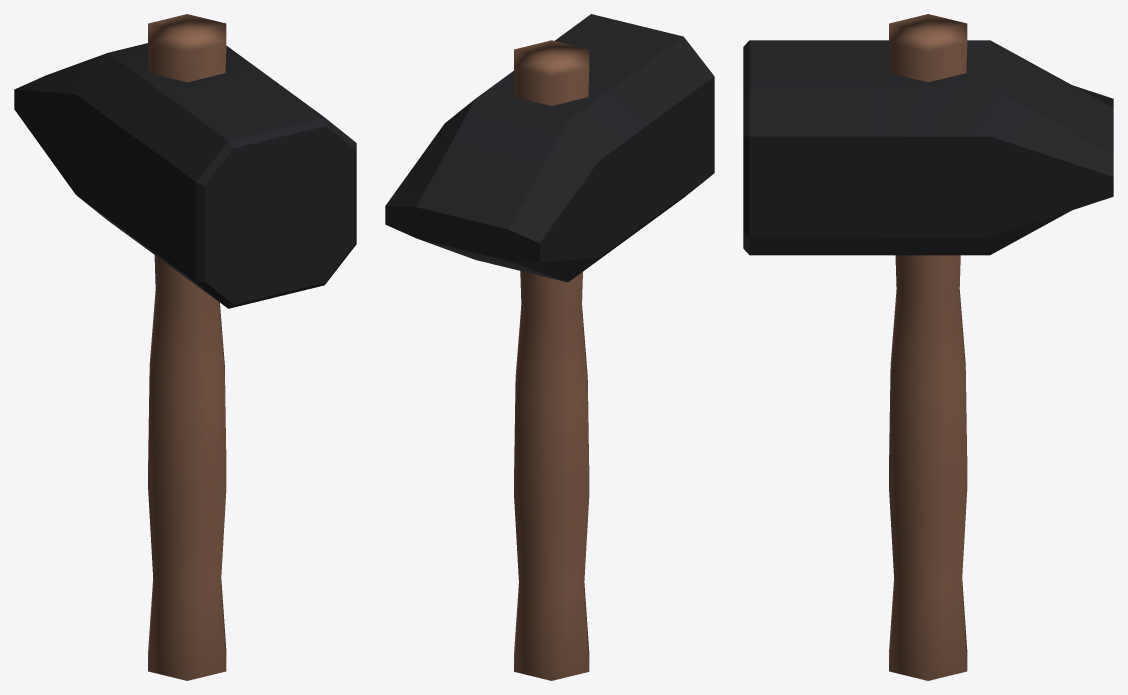
File: Hammer.fbx
3 renders of one model, left to right at view 1: azimuth 30°, elevation 25°; view 2: azimuth 150°, elevation 25°; view 3: azimuth 270°, elevation 25°, orthographic. The views are drawn at different scales.
Visible parts, largest first — view 1: Hammer; view 2: Hammer; view 3: Hammer.
Part boxes in pixels (box(x1,y1,x2,y2)): Hammer: box(14, 14, 356, 680); Hammer: box(385, 14, 714, 680); Hammer: box(743, 14, 1113, 680).
Size of the model in its own units: 7.16 by 26.81 by 14.33.
